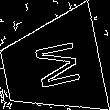M_W: (24, 37, 80, 93)
